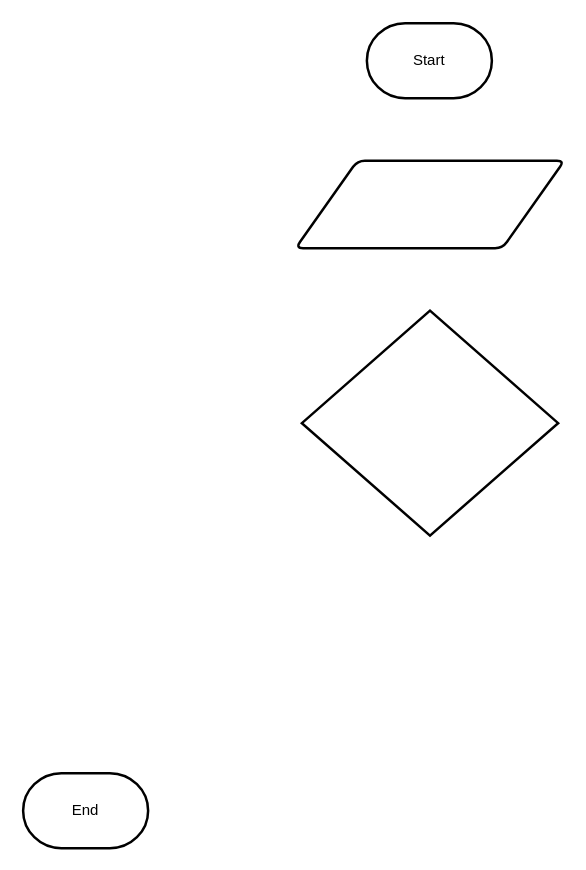
Some shapes in this 586 by 870 pixel diagram are drawn without their labels. The box of each missing label's shape, as (x1, y1, x2, y2) in pixels:
if: (300, 309, 559, 536)
Read Load: (294, 159, 565, 249)
